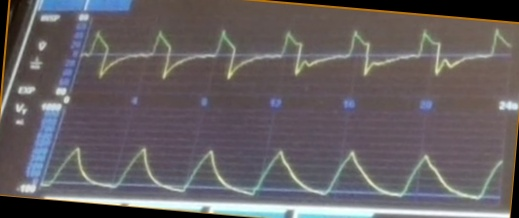Premature_cycling Flow: (86, 23, 511, 91)
Premature_cycling Volume: (49, 141, 499, 198)
